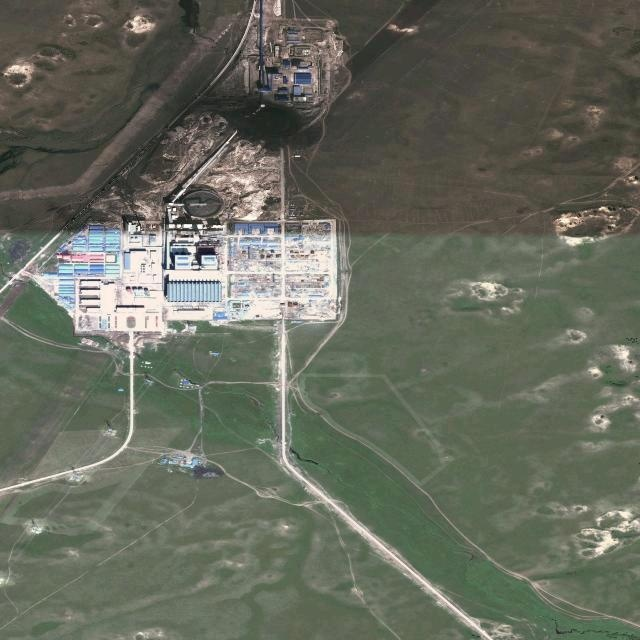coal_fired_power_plant: (163, 181, 227, 323)
